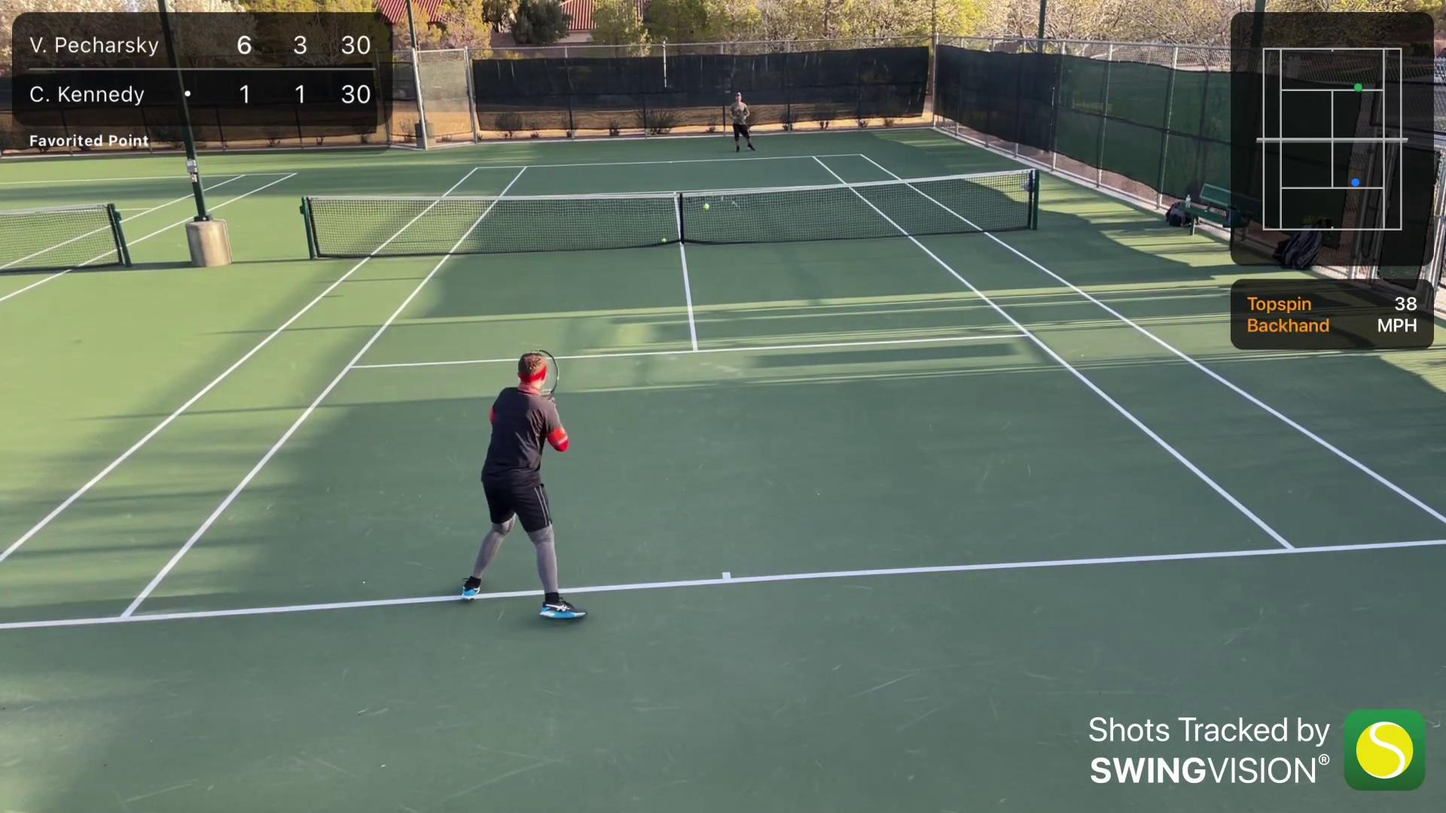ball: (659, 237, 668, 244), (703, 203, 709, 210)
